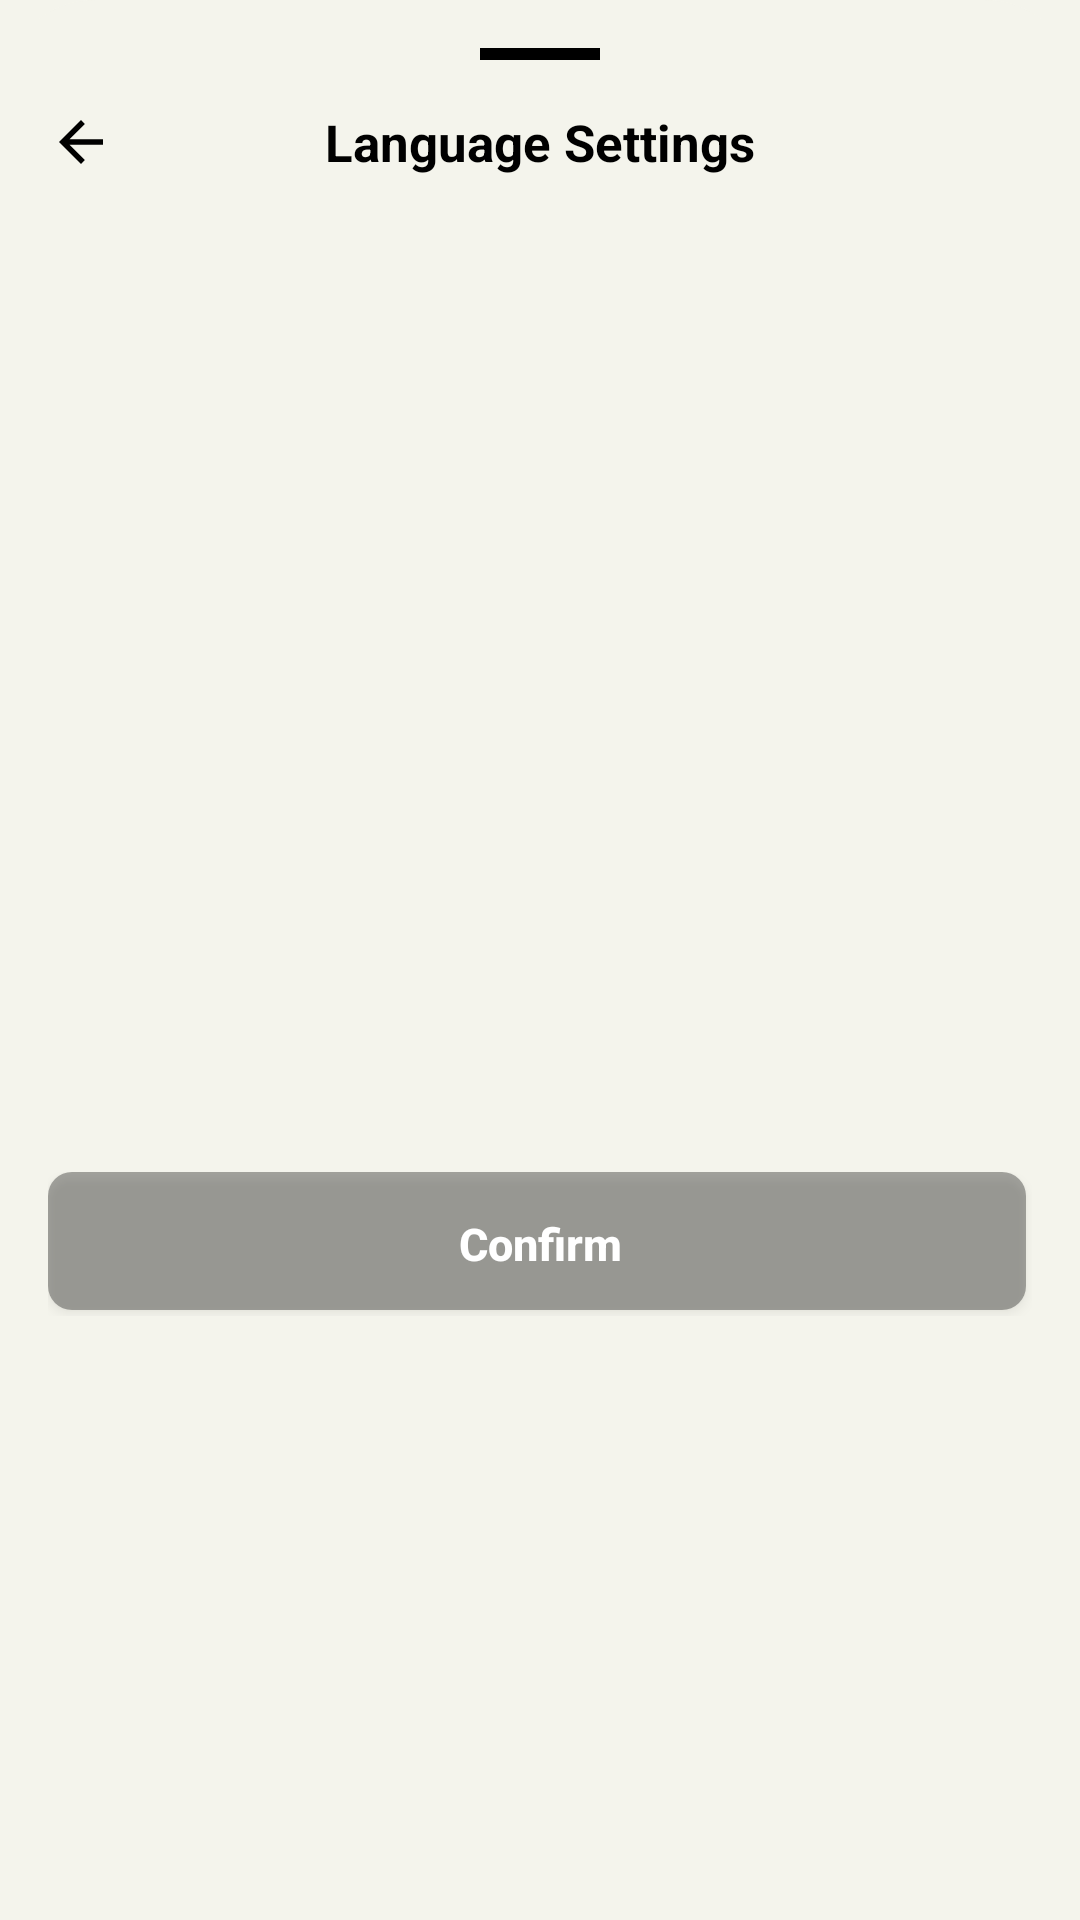

Named icons in this screenshot (1080x1920) and their centers, (x,y):
Back: (81,142)
